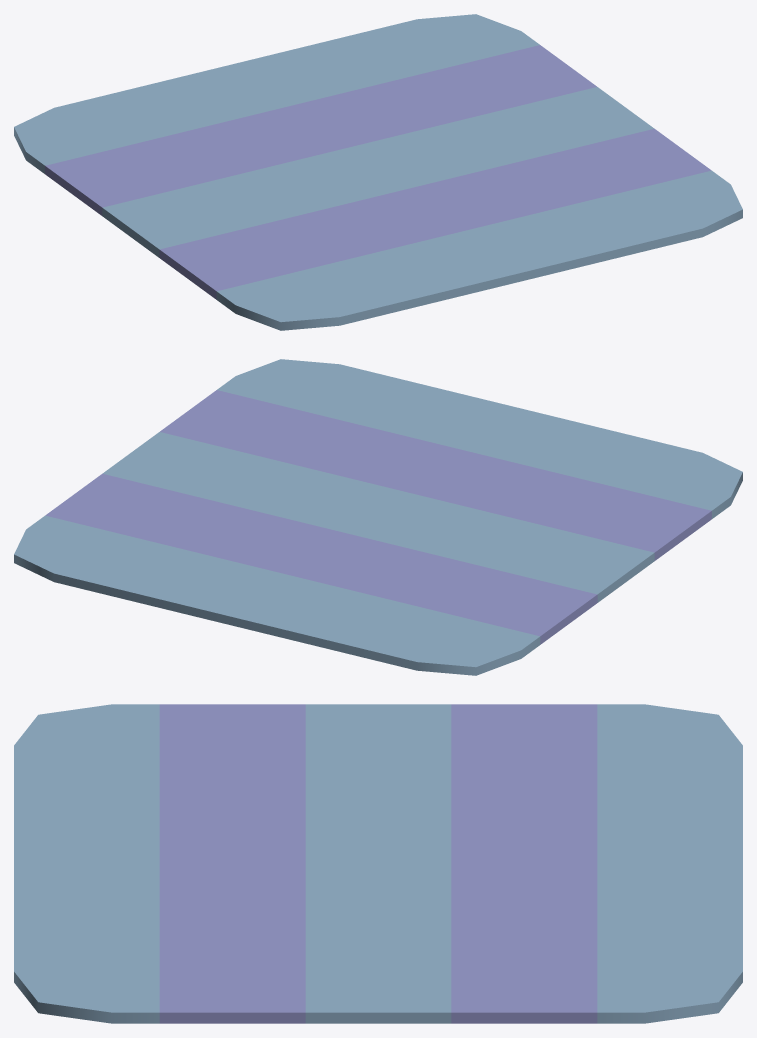
File: carpet-rectangle-stripes-square.glb
3 views of the same model, one above another, from view 1: azimuth 30°, elevation 25°; view 2: azimuth 150°, elevation 25°; view 3: azimuth 270°, elevation 25° (orthographic). The views are drawn at different scales.
Parts seen in each view (by area): view 1: carpet-rectangle-stripes-square; view 2: carpet-rectangle-stripes-square; view 3: carpet-rectangle-stripes-square.
Part boxes in pixels (x1,y1,x2,y2): carpet-rectangle-stripes-square: (14, 14, 742, 330); carpet-rectangle-stripes-square: (14, 359, 742, 675); carpet-rectangle-stripes-square: (14, 704, 742, 1023).
Size of the model in its own units: 1.5 by 0.025 by 1.5.
